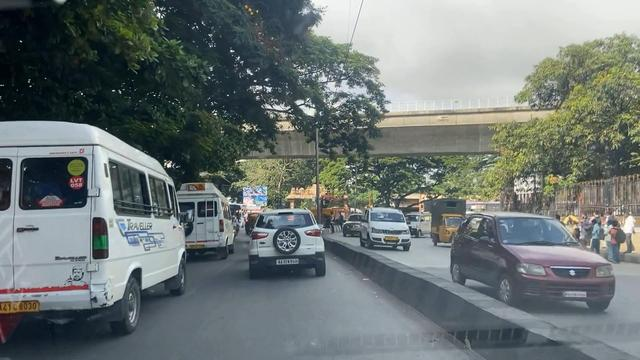HMV: (0, 117, 186, 323), (182, 179, 235, 257)
LMV: (252, 208, 328, 276)
